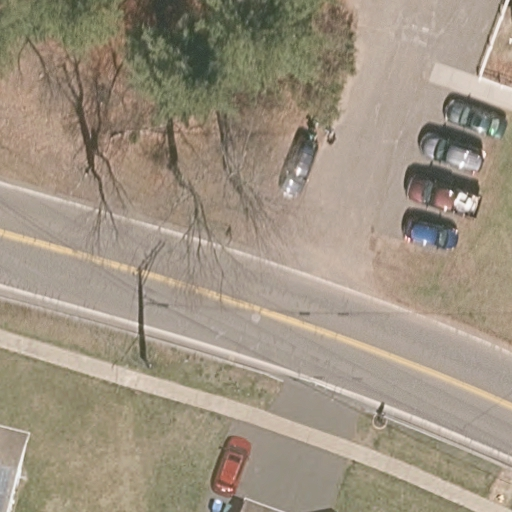DT: (136, 264, 154, 369)
